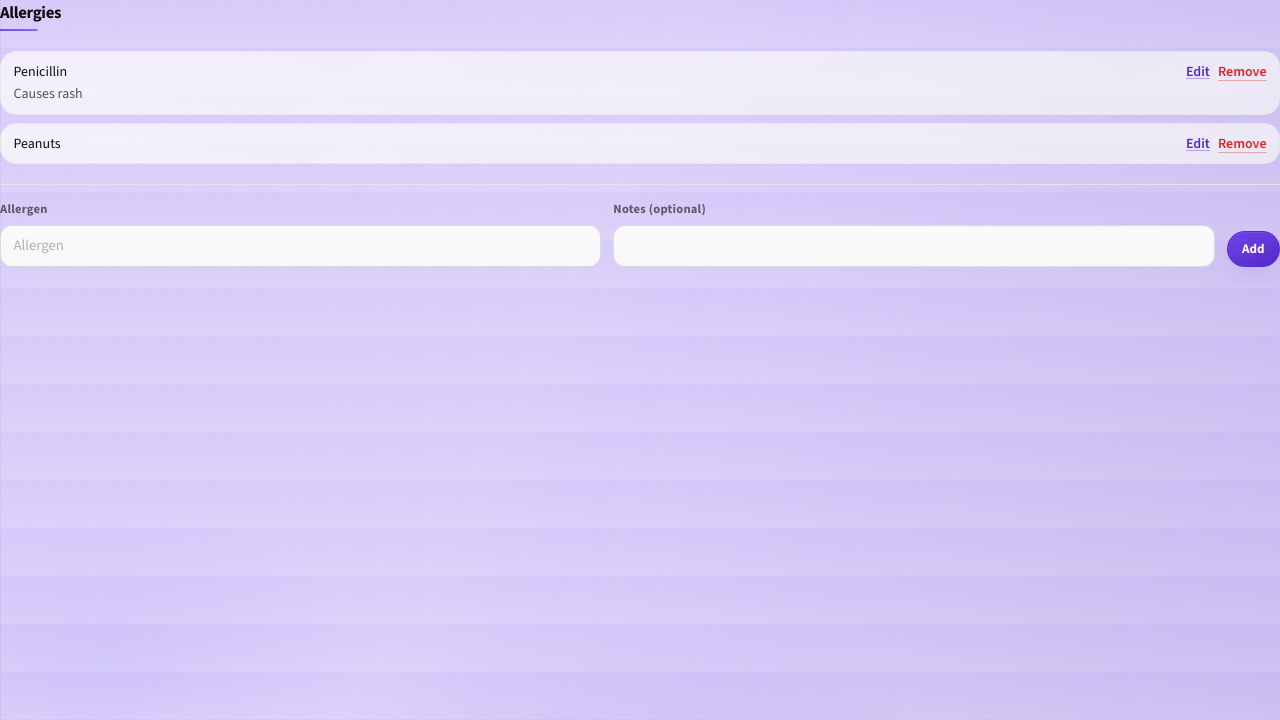
it: AllergiesTab › Edit button shows inline form pre-populated with allergen and notes
This screenshot has width=1280, height=720.
Expected: the text "Penicillin" is shown, [14,62,67,81]
Click the button "Edit" in the row of "Penicillin": [1198, 72] box [1186,62,1210,82]
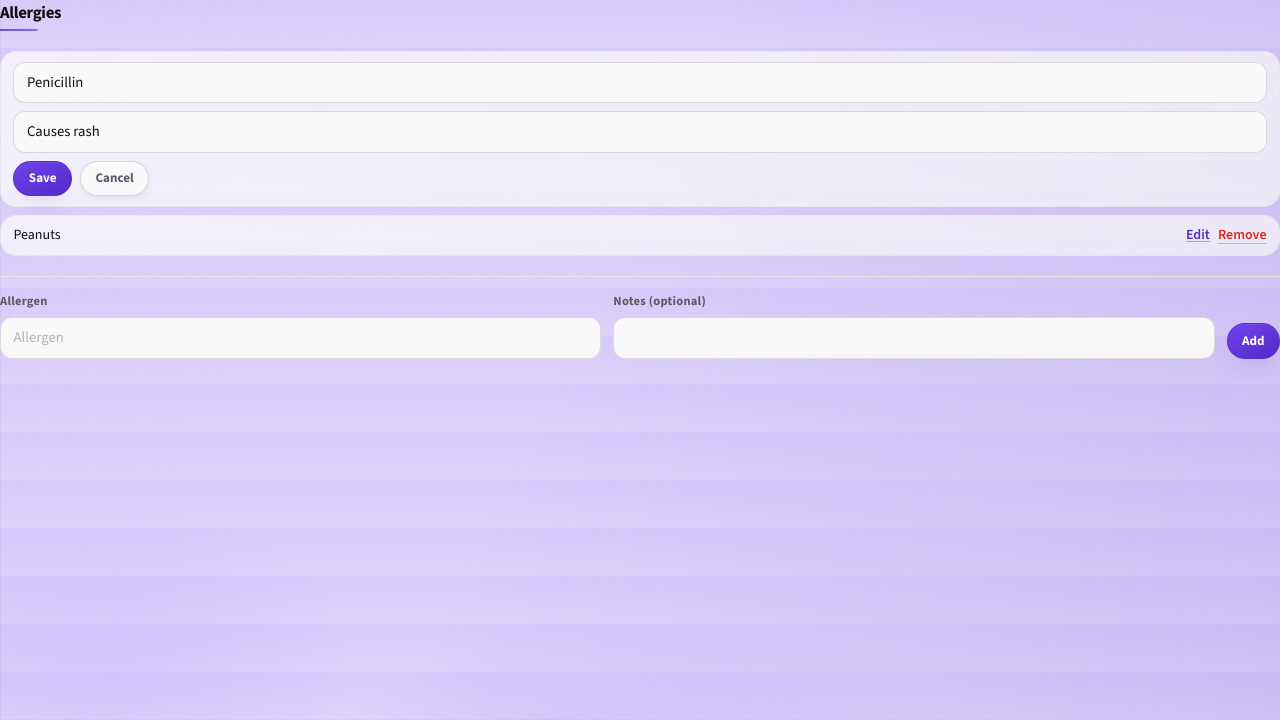
Expected: the 1st field showing "Penicillin" is shown, [14,62,1267,103]
Expected: the 2nd field showing "Causes rash" is shown, [14,111,1267,152]
